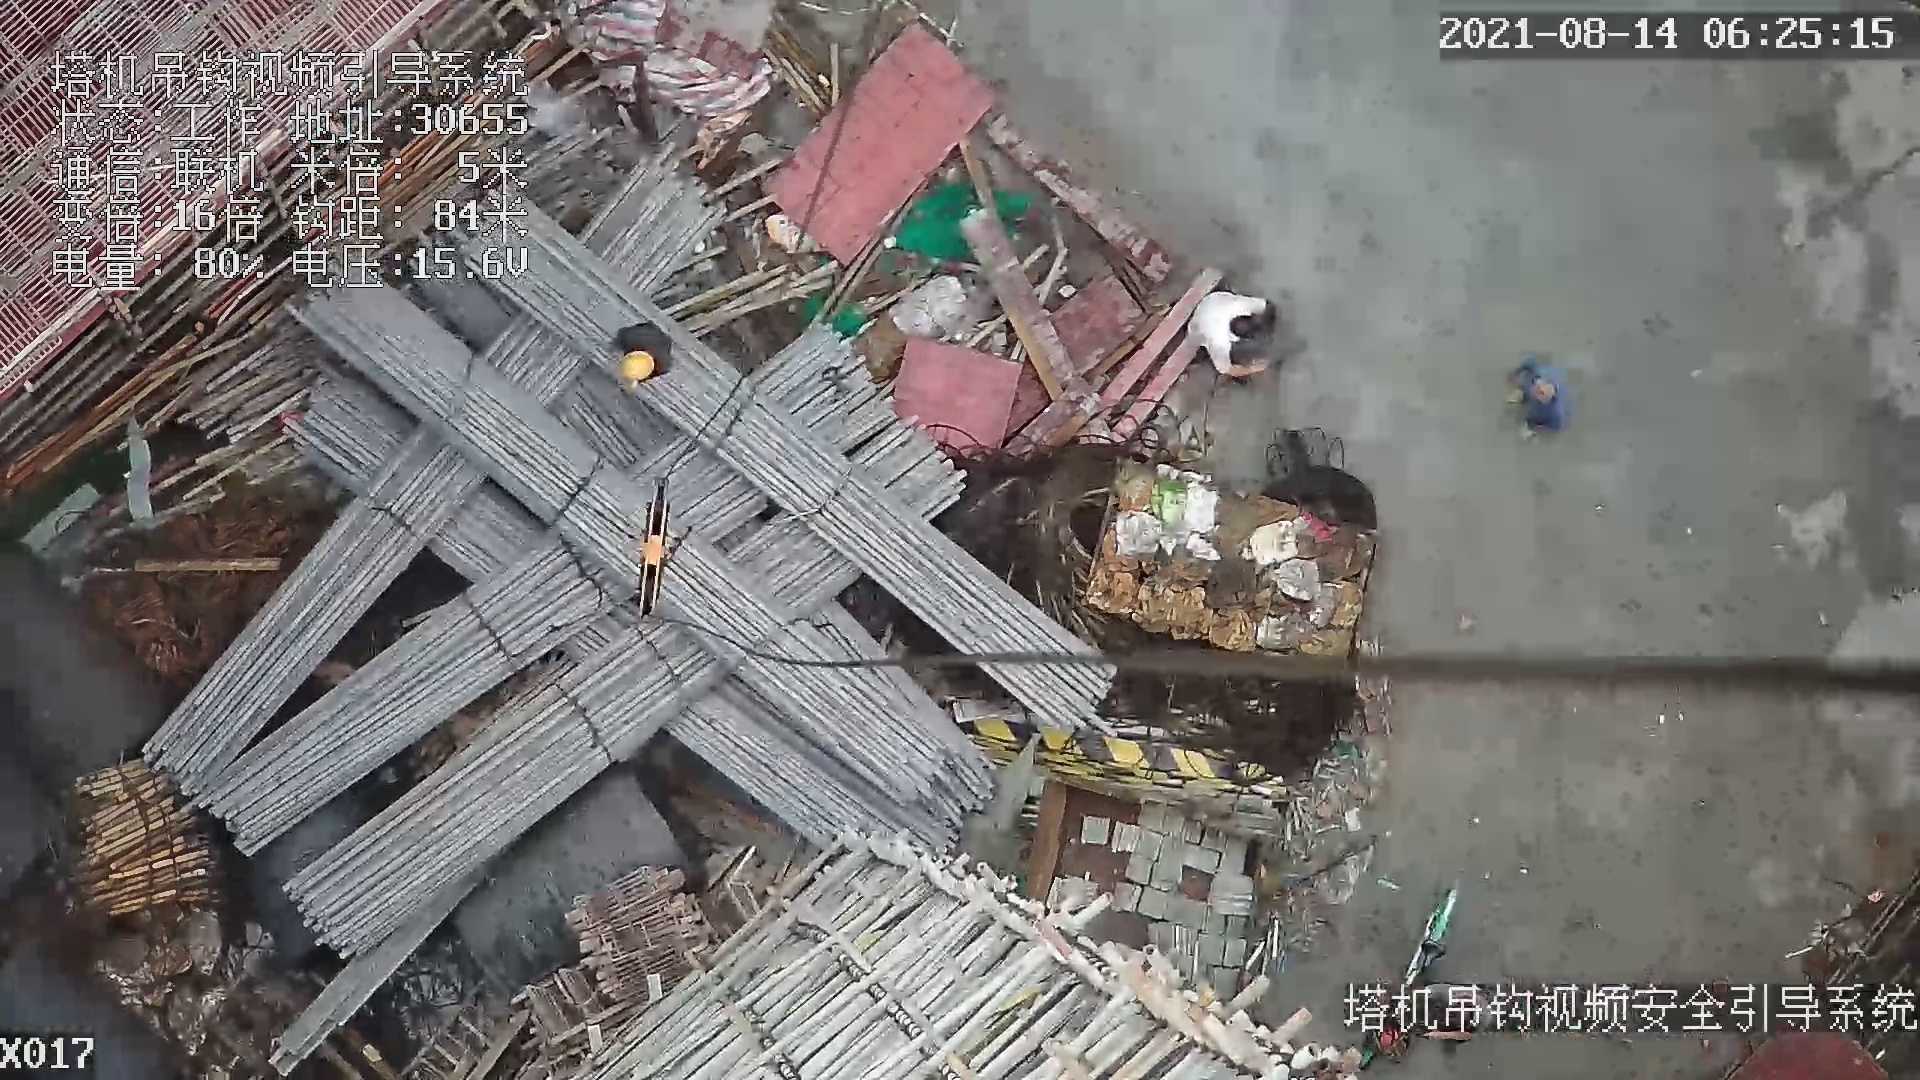helmet: (619, 349, 656, 384)
hook: (624, 464, 676, 623)
person: (1190, 283, 1277, 381), (1512, 349, 1574, 447), (606, 318, 673, 386)
